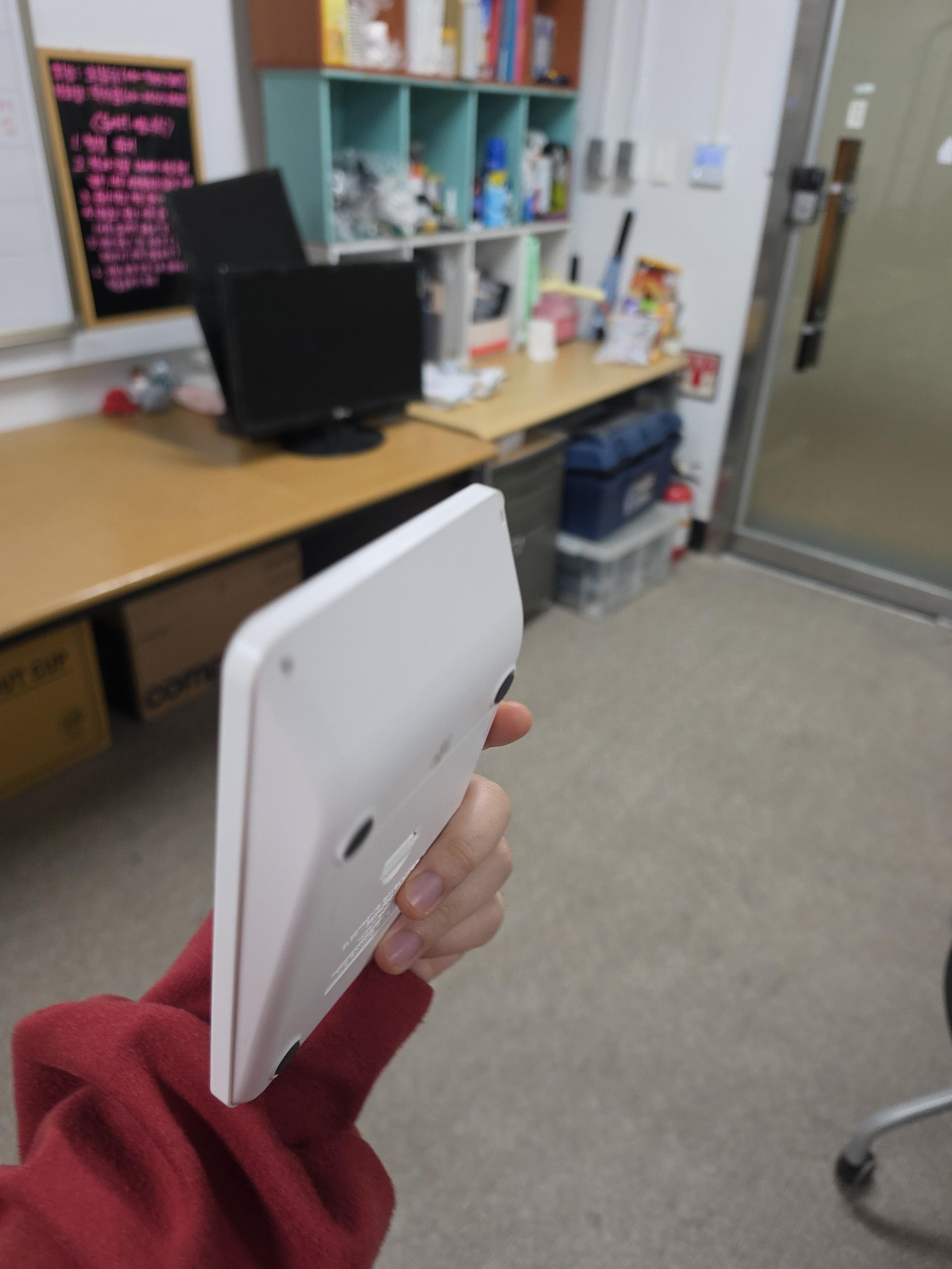calculator: (209, 483, 524, 1108)
